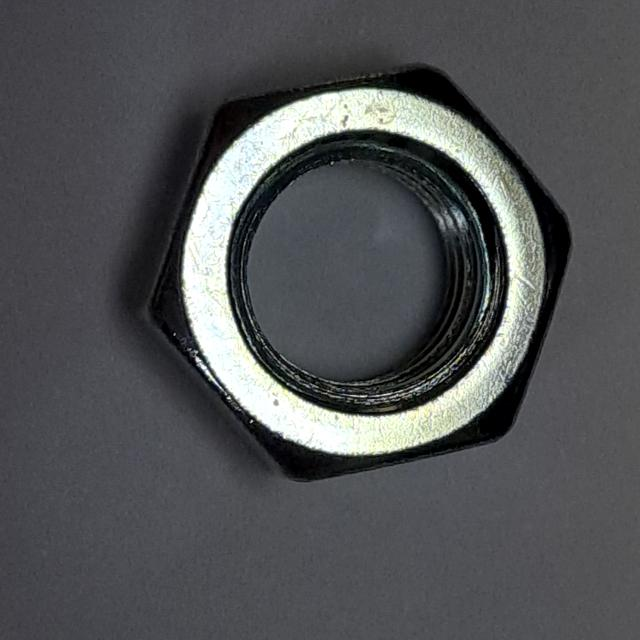Excellent: (128, 43, 587, 499)
